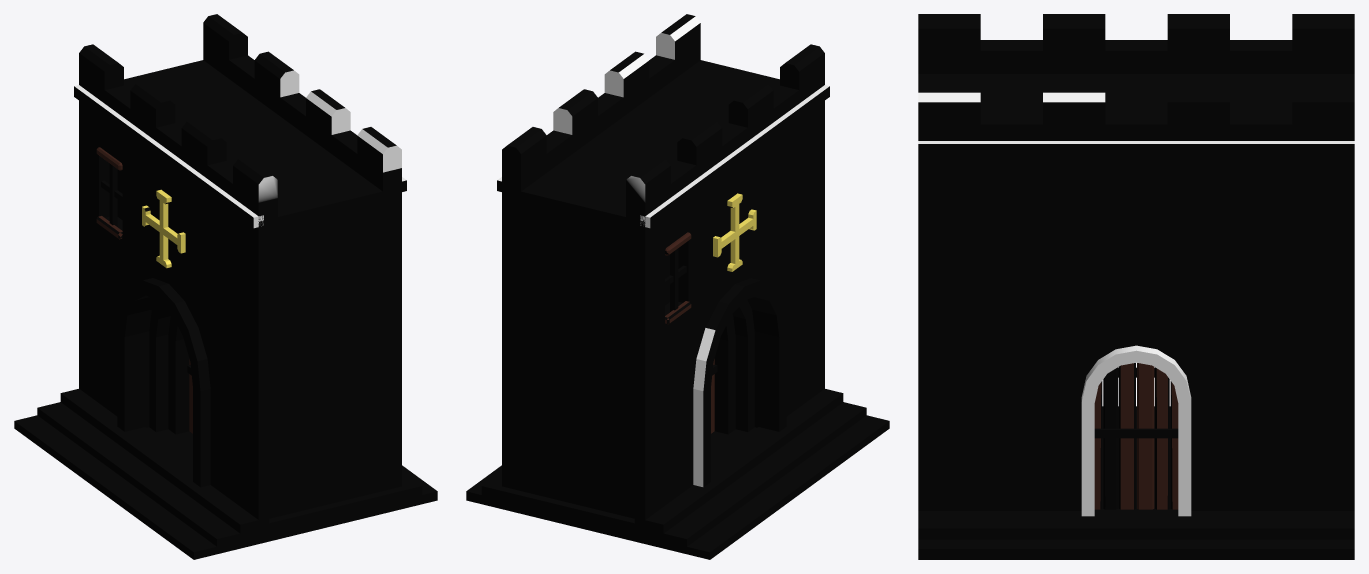
Rendered from fortification_gate.FBX.
3 renders of one model, left to right at view 1: azimuth 30°, elevation 25°; view 2: azimuth 150°, elevation 25°; view 3: azimuth 270°, elevation 25°, orthographic. The views are drawn at different scales.
Visible parts, largest first — view 1: fortification_gate; view 2: fortification_gate; view 3: fortification_gate.
Part boxes in pixels (bbox=[...]): fortification_gate: bbox=[14, 14, 437, 559]; fortification_gate: bbox=[466, 14, 889, 559]; fortification_gate: bbox=[918, 14, 1354, 559].
Size of the model in its own units: 852 by 1218 by 1087.
